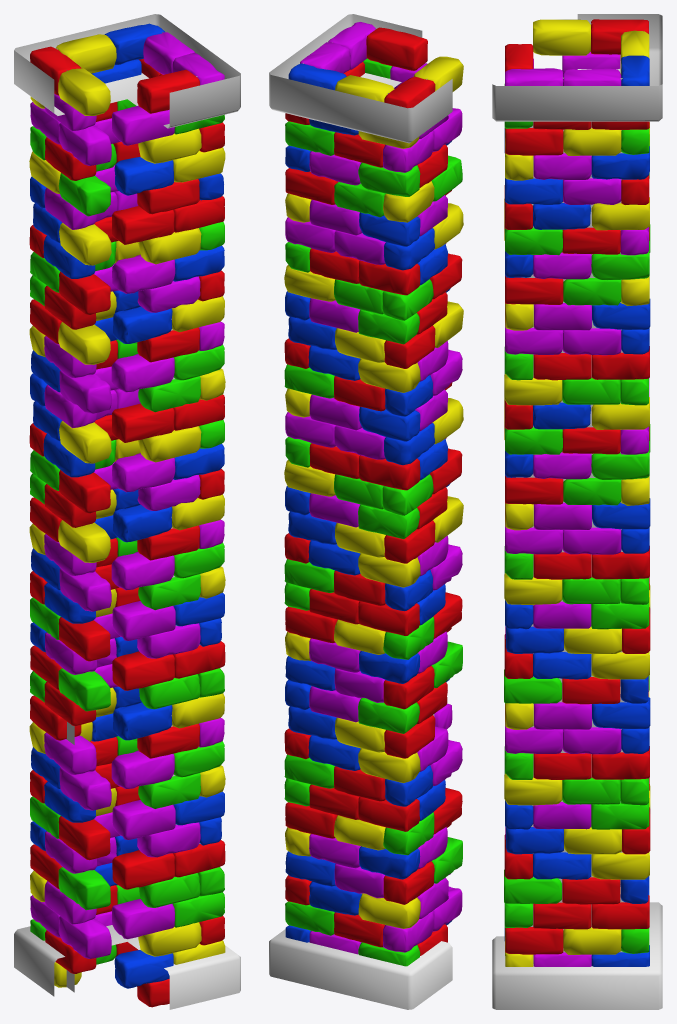
Rendered from column 3quarters.fbx.
3 renders of one model, left to right at view 1: azimuth 30°, elevation 25°; view 2: azimuth 150°, elevation 25°; view 3: azimuth 270°, elevation 25°, orthographic. The views are drawn at different scales.
Visible parts, largest first — view 1: column, edge top, edge bottom; view 2: column, edge top, edge bottom; view 3: column, edge bottom, edge top.
Boxes of the visible parts, box(x1,y1,x2,y2) form: column: box(29, 23, 225, 1007); edge top: box(14, 14, 240, 128); edge bottom: box(14, 925, 240, 1009); column: box(284, 22, 463, 966); edge top: box(269, 14, 452, 143); edge bottom: box(269, 929, 452, 1009); column: box(504, 19, 650, 966); edge bottom: box(492, 902, 662, 1009); edge top: box(492, 14, 662, 121).
Bounding box in the file's own units: 117 × 701 × 117.
